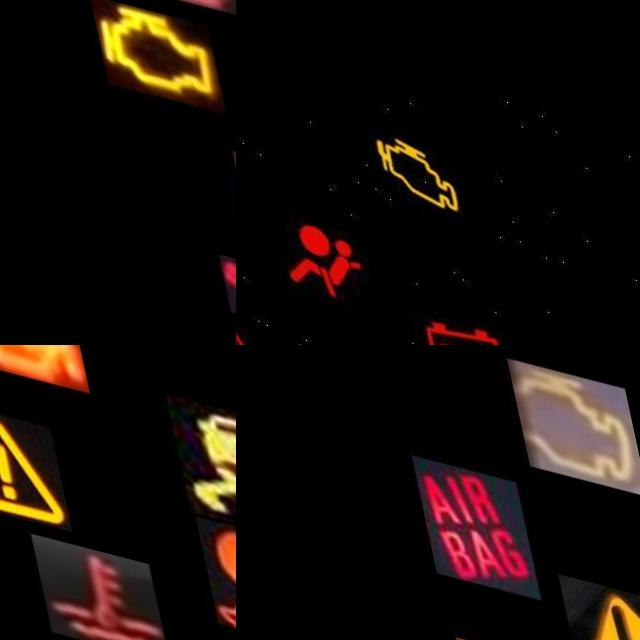Central Warning lamp: (0, 390, 62, 519), (539, 561, 640, 640)
Engine cooling system: (19, 522, 154, 640)
